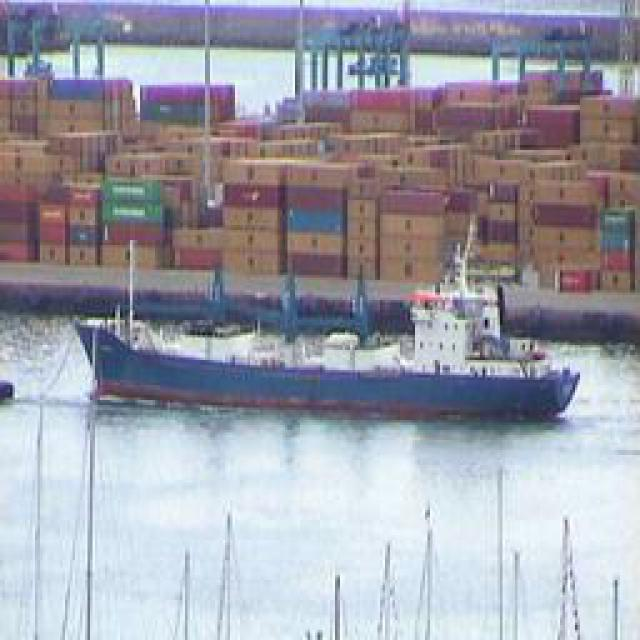Ship: (66, 315, 574, 418)
